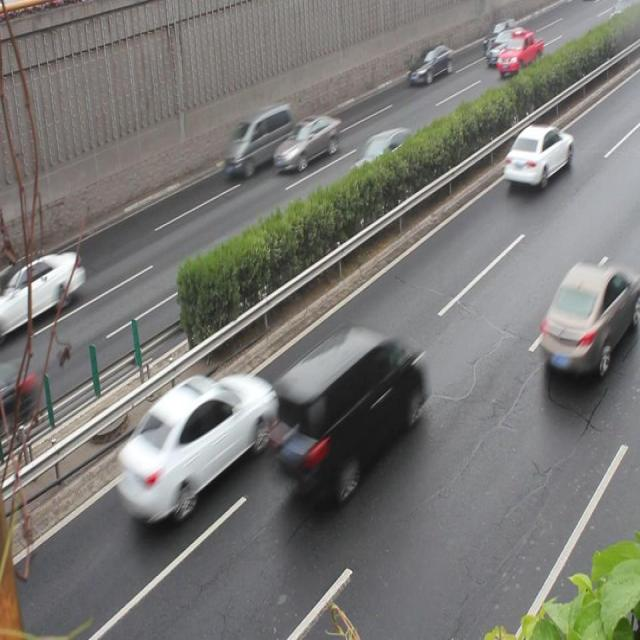car: (275, 327, 422, 496), (118, 370, 268, 519), (536, 260, 639, 366), (0, 250, 81, 336), (344, 126, 421, 192), (501, 121, 569, 187), (272, 113, 340, 168), (0, 359, 31, 423)
